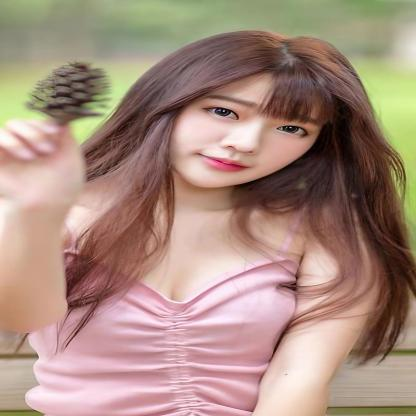person: (138, 30, 372, 197)
